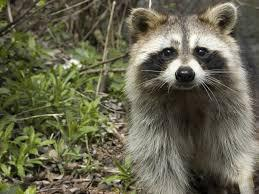raccoon: (107, 0, 257, 193)
